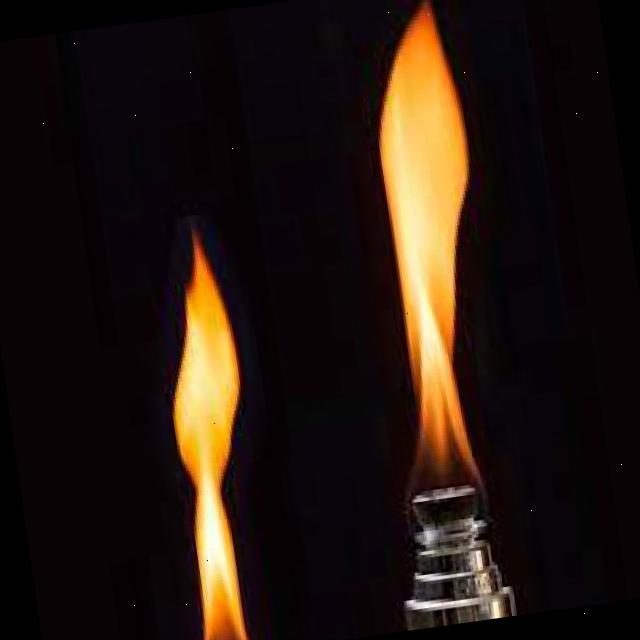fire: (337, 0, 530, 517), (84, 201, 306, 640)
